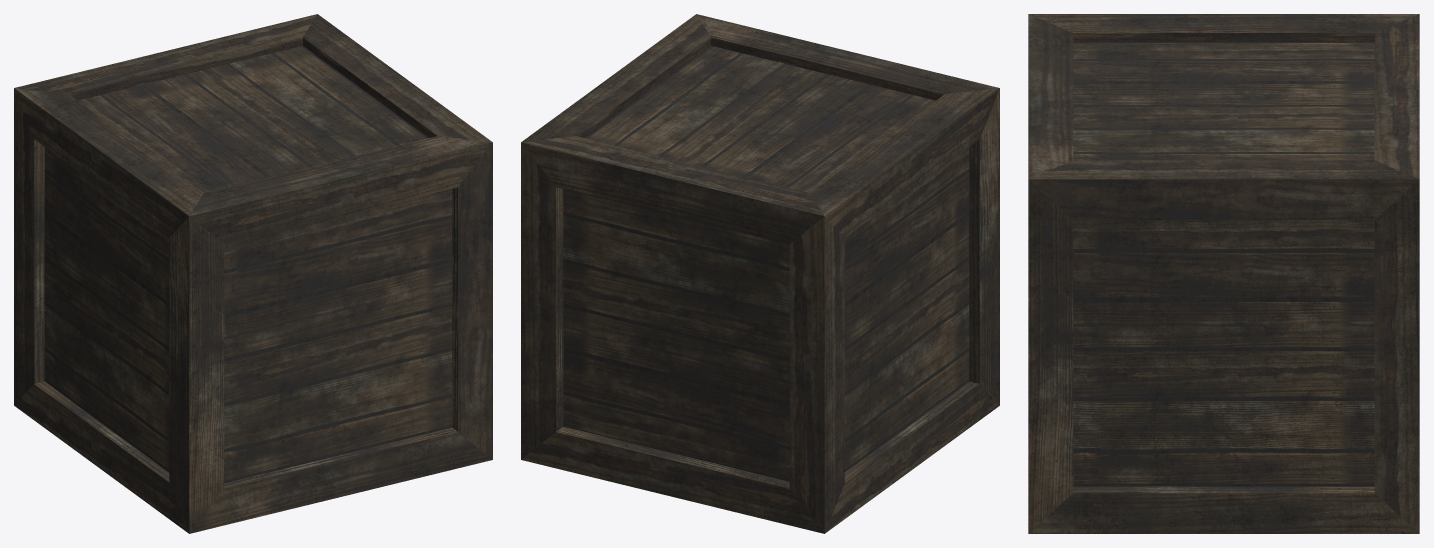
Rendered from Basic Crate.fbx.
3 views of the same model, side by side, from view 1: azimuth 30°, elevation 25°; view 2: azimuth 150°, elevation 25°; view 3: azimuth 270°, elevation 25° (orthographic). The views are drawn at different scales.
Parts seen in each view (by area): view 1: Cube; view 2: Cube; view 3: Cube.
Boxes of the visible parts, x1,y1,x2,y2 form: Cube: (14, 14, 492, 533); Cube: (521, 14, 999, 533); Cube: (1028, 14, 1419, 533).
Size of the model in its own units: 117 by 117 by 117.
